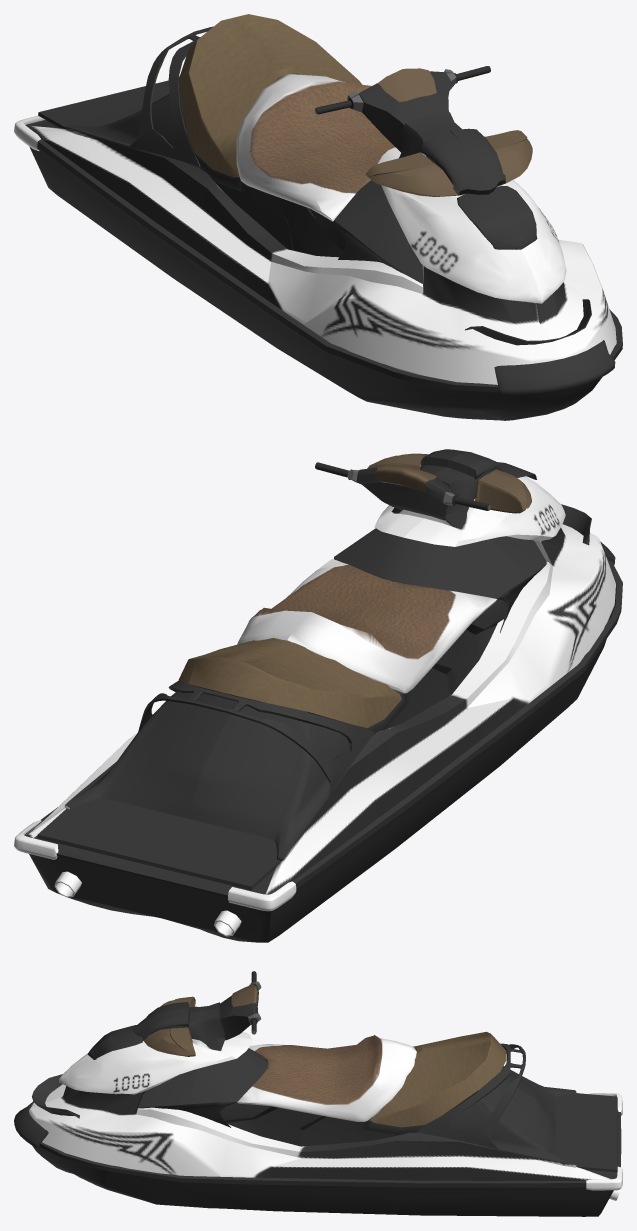
File: Speed_Boat_Bike_04_V01.fbx
3 renders of one model, top to bottom at view 1: azimuth 30°, elevation 25°; view 2: azimuth 150°, elevation 25°; view 3: azimuth 270°, elevation 25°, orthographic. The views are drawn at different scales.
Visible parts, largest first — view 1: Speed_Boat_Bike_04_Body, Speed_Boat_Bike_04_Handle; view 2: Speed_Boat_Bike_04_Body; view 3: Speed_Boat_Bike_04_Body.
Boxes of the visible parts, left/top/right/bottom form: Speed_Boat_Bike_04_Body: left=14, top=14, right=622, bottom=420; Speed_Boat_Bike_04_Handle: left=315, top=66, right=490, bottom=114; Speed_Boat_Bike_04_Body: left=14, top=449, right=622, bottom=942; Speed_Boat_Bike_04_Body: left=14, top=981, right=622, bottom=1216.
Bounding box in the file's own units: 114 × 120 × 325.
